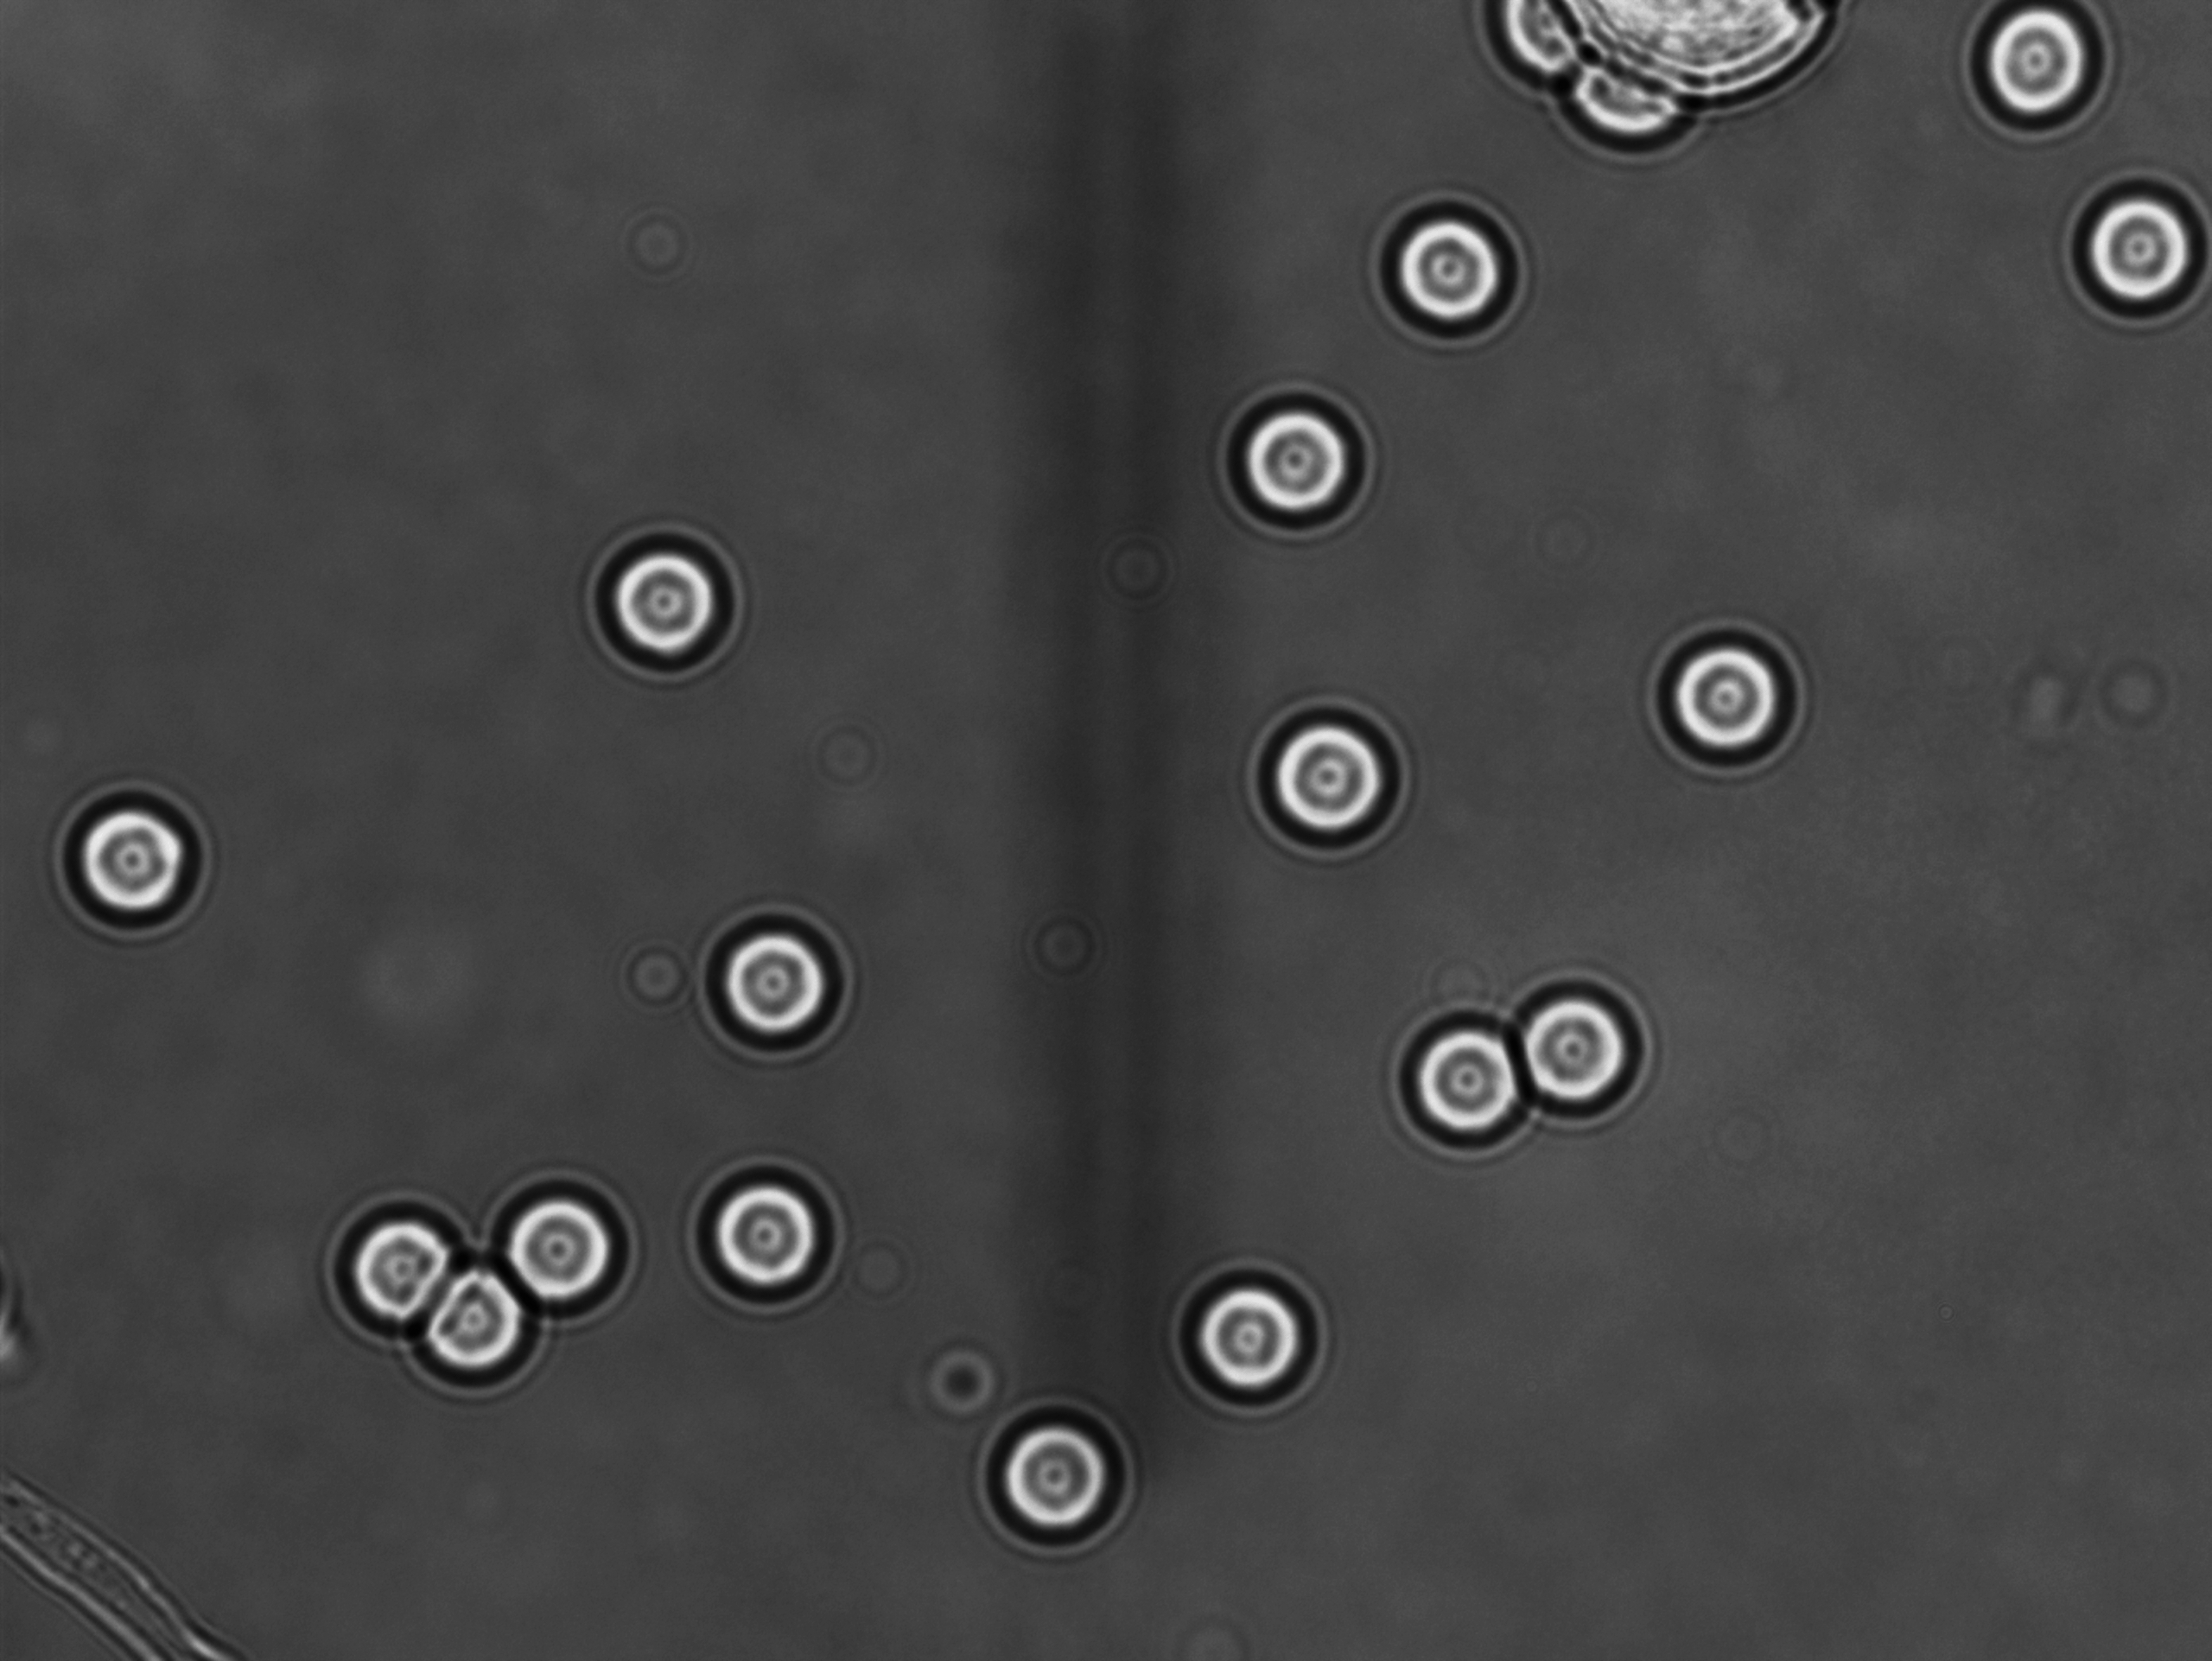depth:20: (1642, 598, 1819, 782), (1244, 689, 1429, 862), (31, 764, 222, 932), (672, 1157, 865, 1321), (1202, 366, 1387, 536), (1160, 1247, 1342, 1417), (694, 897, 870, 1070), (577, 511, 747, 682), (1371, 192, 1537, 354), (963, 1403, 1132, 1560), (1376, 988, 1535, 1153), (481, 1171, 642, 1329), (1499, 967, 1654, 1118), (387, 1260, 539, 1399), (323, 1179, 455, 1335), (2062, 169, 2212, 305)
